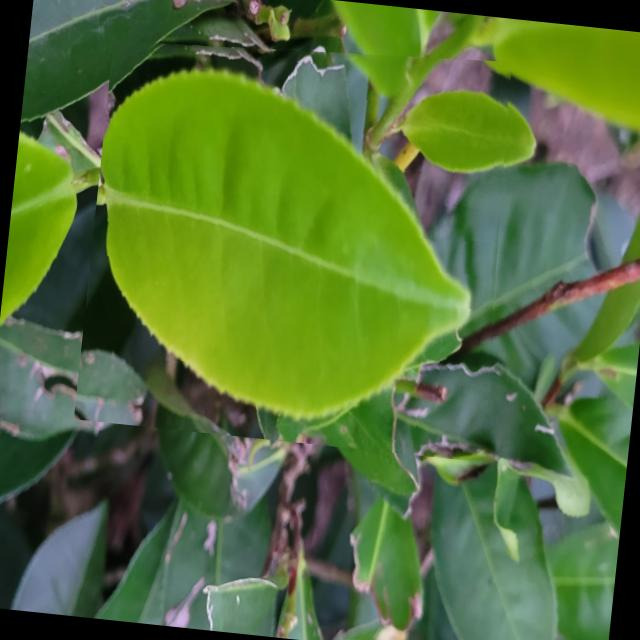Catagory A(1-2 days): (72, 19, 522, 462)
